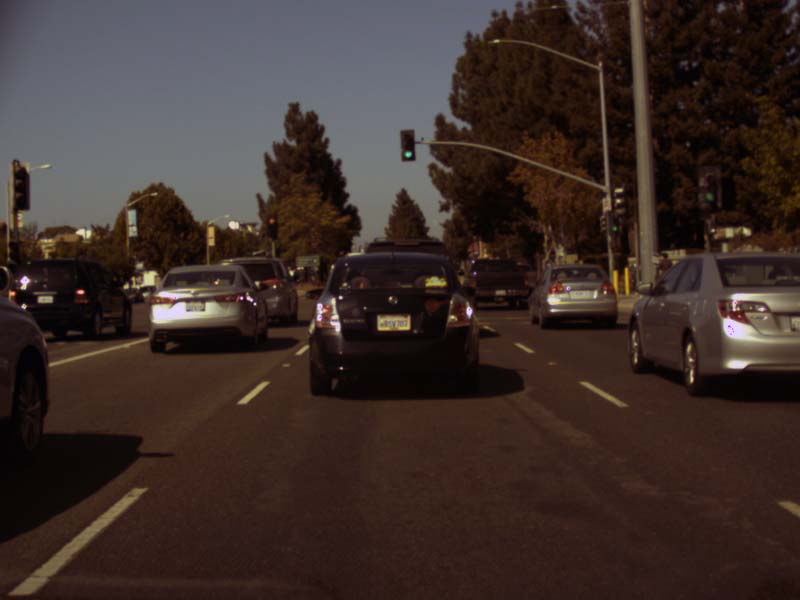Green: (401, 131, 414, 159), (705, 174, 716, 201), (611, 216, 617, 232)
Red: (8, 240, 17, 271), (267, 216, 277, 238)
